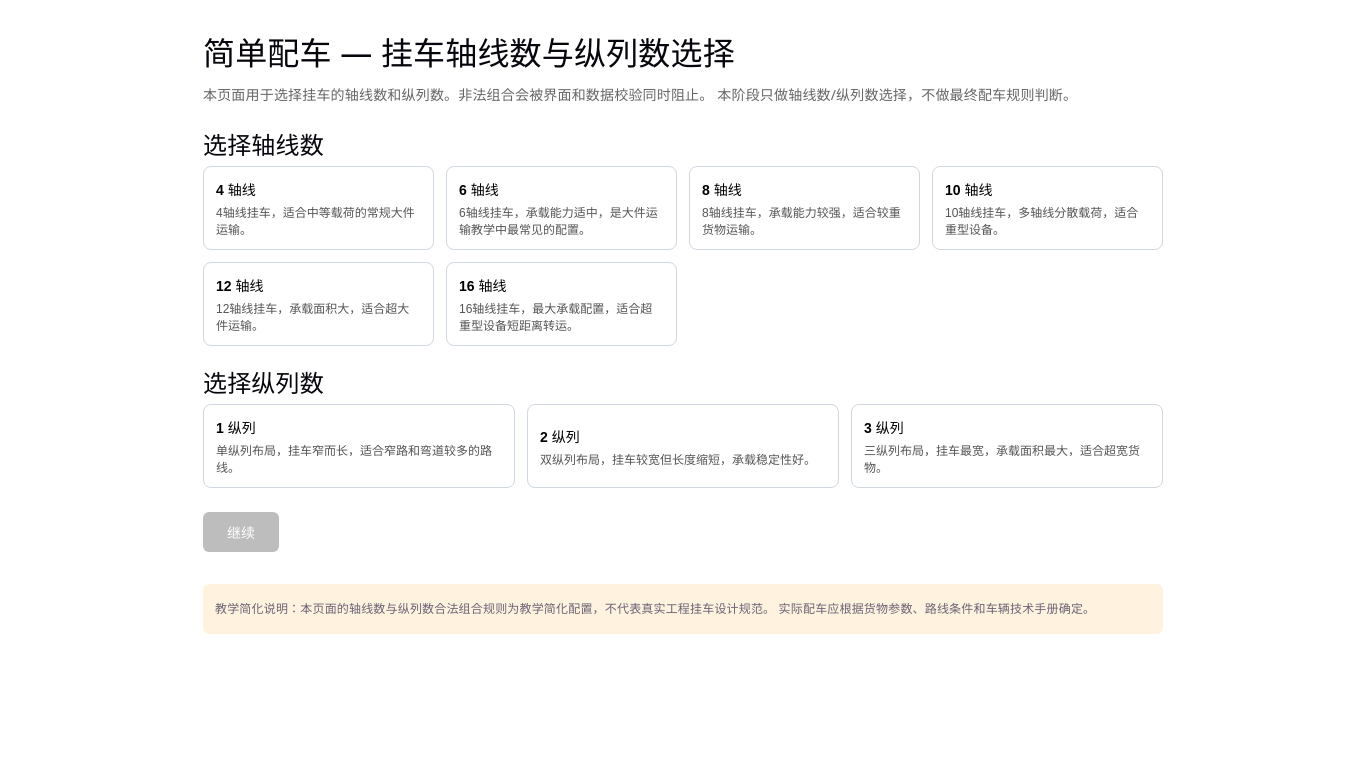
Test case: TrailerSelectionPage › should show summary after selecting both axle and column
Click the button with test id "axle-6". click: (562, 208)
box: top-left (446, 166), bottom-right (677, 250)
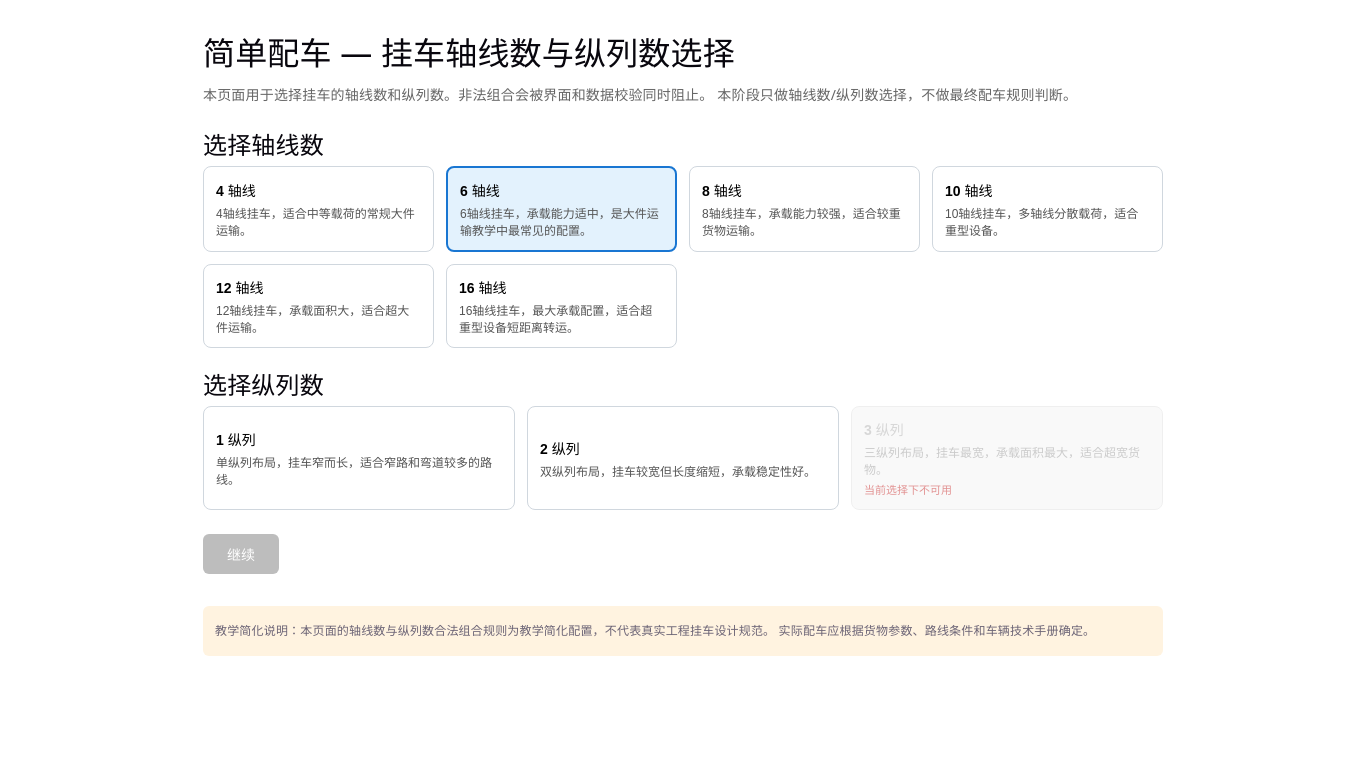
Click the button with test id "col-2". click: (560, 449)
box: top-left (527, 406), bottom-right (839, 510)
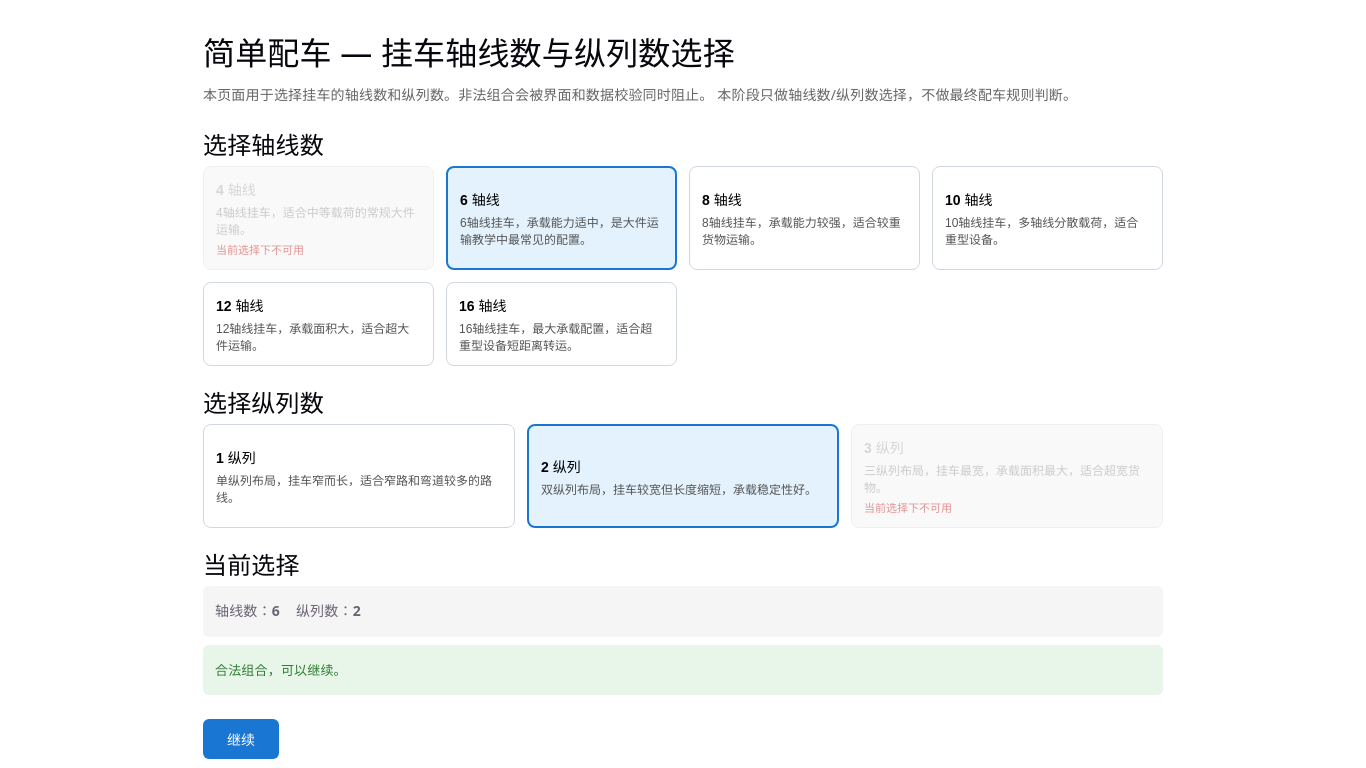
Expected: the element with test id "selection-summary" is shown, top-left (203, 552), bottom-right (1163, 695)
